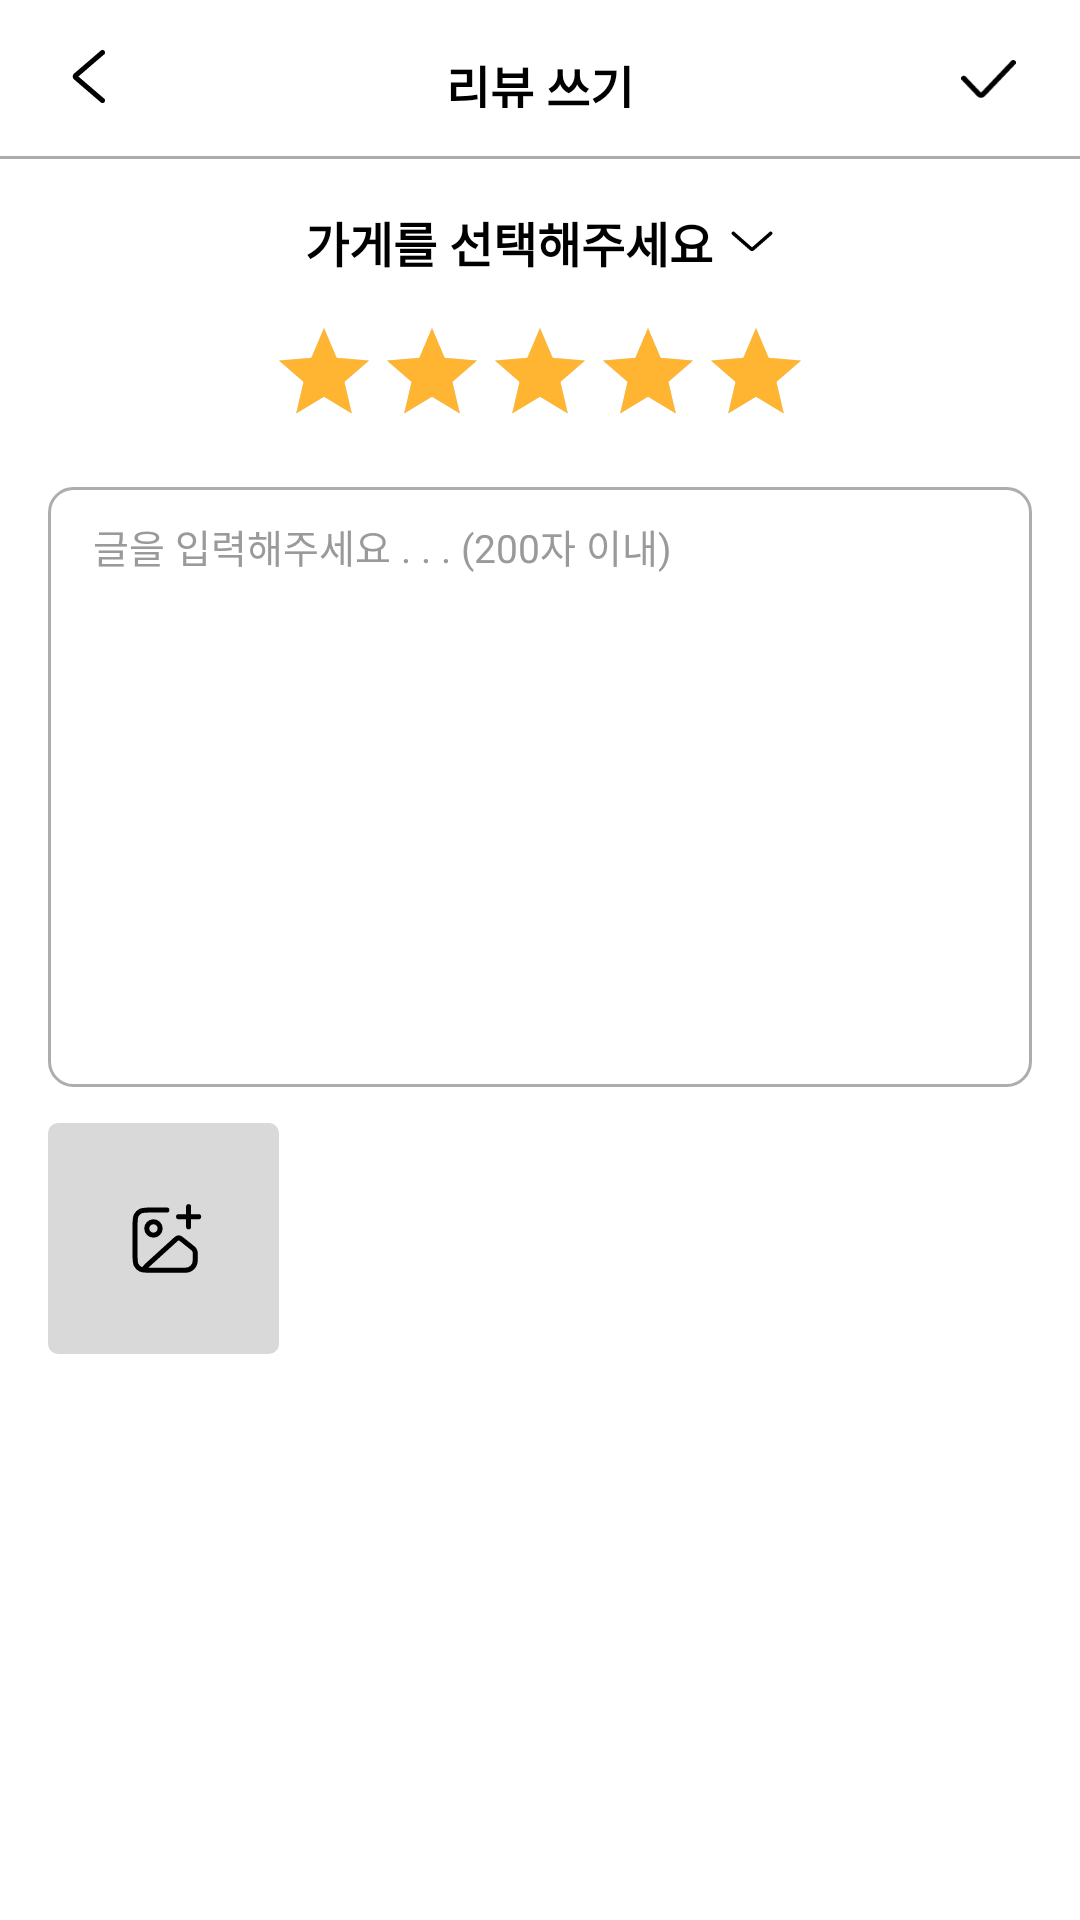

Where to tap for icons on this 1080x1920 app screen, as (x=x, y=y):
back arrow: (x=88, y=76)
check: (x=988, y=79)
